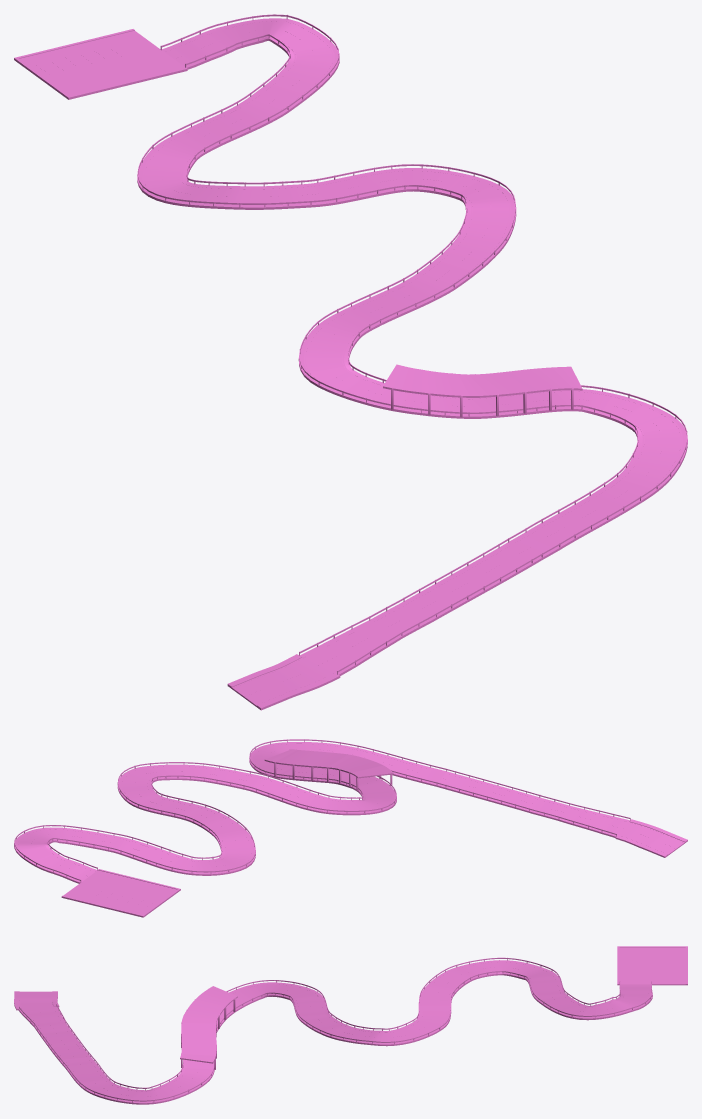
Rendered from Road_Mountain.fbx.
3 views of the same model, one above another, from view 1: azimuth 30°, elevation 25°; view 2: azimuth 150°, elevation 25°; view 3: azimuth 270°, elevation 25° (orthographic). The views are drawn at different scales.
Parts seen in each view (by area): view 1: Mountain_2, Mountain_0, Mountain_1, Mountain_3, Mountain_5, Mountain_4, CarPark; view 2: Mountain_0, Mountain_2, Mountain_4, Mountain_3, Mountain_5, Mountain_1, CarPark; view 3: Mountain_2, Mountain_1, Mountain_4, Mountain_3, CarPark, Mountain_5, Mountain_0.
Boxes of the visible parts, bbox=[...] form: Mountain_2: bbox=[298, 303, 573, 418]; Mountain_0: bbox=[227, 538, 542, 710]; Mountain_1: bbox=[508, 366, 687, 559]; Mountain_3: bbox=[351, 164, 516, 325]; Mountain_5: bbox=[160, 14, 339, 140]; Mountain_4: bbox=[137, 117, 395, 209]; CarPark: bbox=[14, 29, 187, 99]; Mountain_0: bbox=[437, 769, 687, 857]; Mountain_2: bbox=[274, 749, 396, 815]; Mountain_4: bbox=[146, 795, 255, 875]; Mountain_3: bbox=[117, 762, 310, 811]; Mountain_5: bbox=[14, 825, 161, 883]; Mountain_1: bbox=[249, 739, 446, 786]; CarPark: bbox=[61, 869, 180, 917]; Mountain_2: bbox=[181, 980, 324, 1069]; Mountain_1: bbox=[59, 1054, 215, 1104]; Mountain_4: bbox=[418, 957, 561, 1016]; Mountain_3: bbox=[293, 999, 450, 1046]; CarPark: bbox=[617, 946, 687, 985]; Mountain_5: bbox=[530, 981, 652, 1020]; Mountain_0: bbox=[14, 991, 90, 1061].
Bounding box in the file's own units: 367 × 147 × 620.
1 material, 1 textured.
